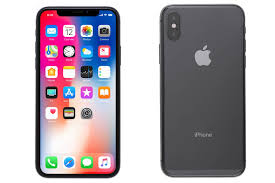iphone: (33, 4, 124, 179), (156, 2, 247, 177)
iphone10: (33, 4, 124, 179), (157, 2, 248, 177)
